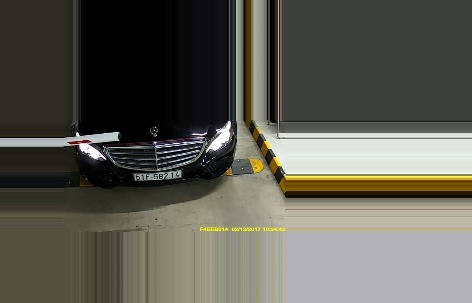plate: (131, 168, 185, 182)
